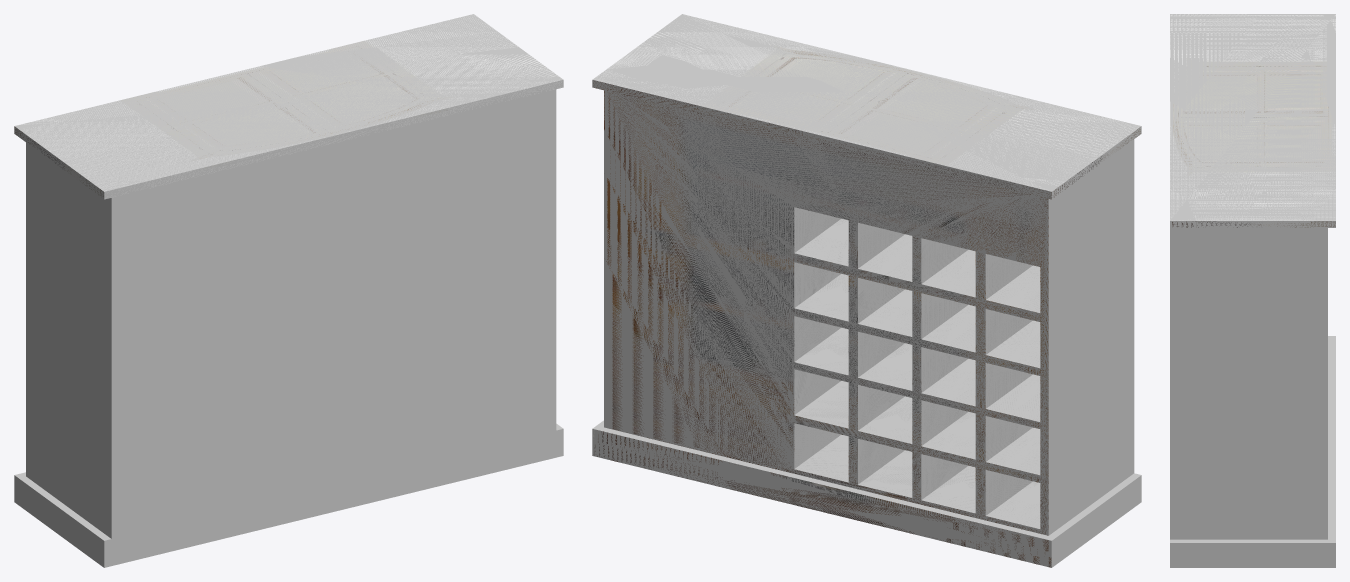
The picture shows the model from 3 angles, left to right: view 1: azimuth 30°, elevation 25°; view 2: azimuth 150°, elevation 25°; view 3: azimuth 270°, elevation 25°; orthographic projection. The views are drawn at different scales.
Visible parts, largest first — view 1: mesh1_mesh1-geometry; view 2: mesh1_mesh1-geometry; view 3: mesh1_mesh1-geometry.
Boxes of the visible parts, x1,y1,x2,y2 form: mesh1_mesh1-geometry: (14, 14, 563, 567); mesh1_mesh1-geometry: (592, 14, 1141, 567); mesh1_mesh1-geometry: (1170, 14, 1335, 567).
Size of the model in its own units: 0.761 by 0.5953 by 0.2578.
